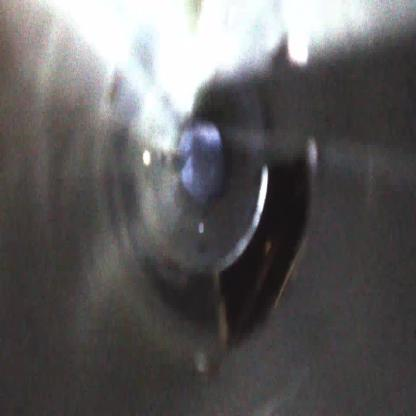Crack2: (212, 157, 314, 358)
